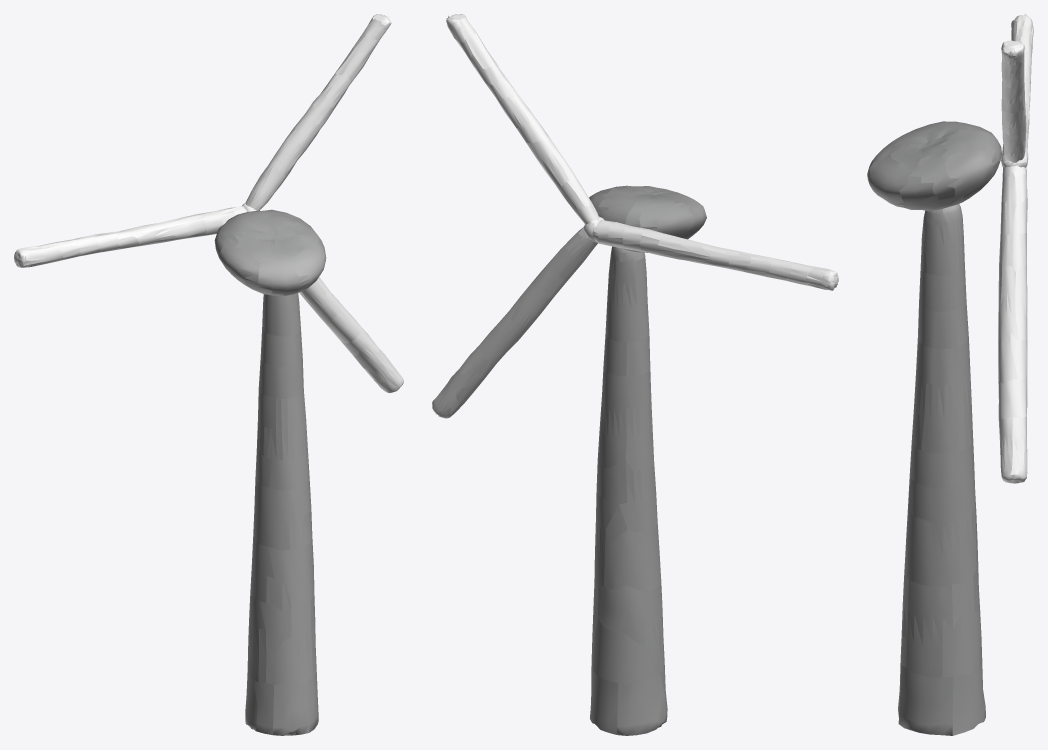
The model's file is wind-power.glb.
3 renders of one model, left to right at view 1: azimuth 30°, elevation 25°; view 2: azimuth 150°, elevation 25°; view 3: azimuth 270°, elevation 25°, orthographic. The views are drawn at different scales.
Bounding box in the file's own units: 0.6133 × 1 × 0.2017.
Materials: 1 (1 with a texture image).
